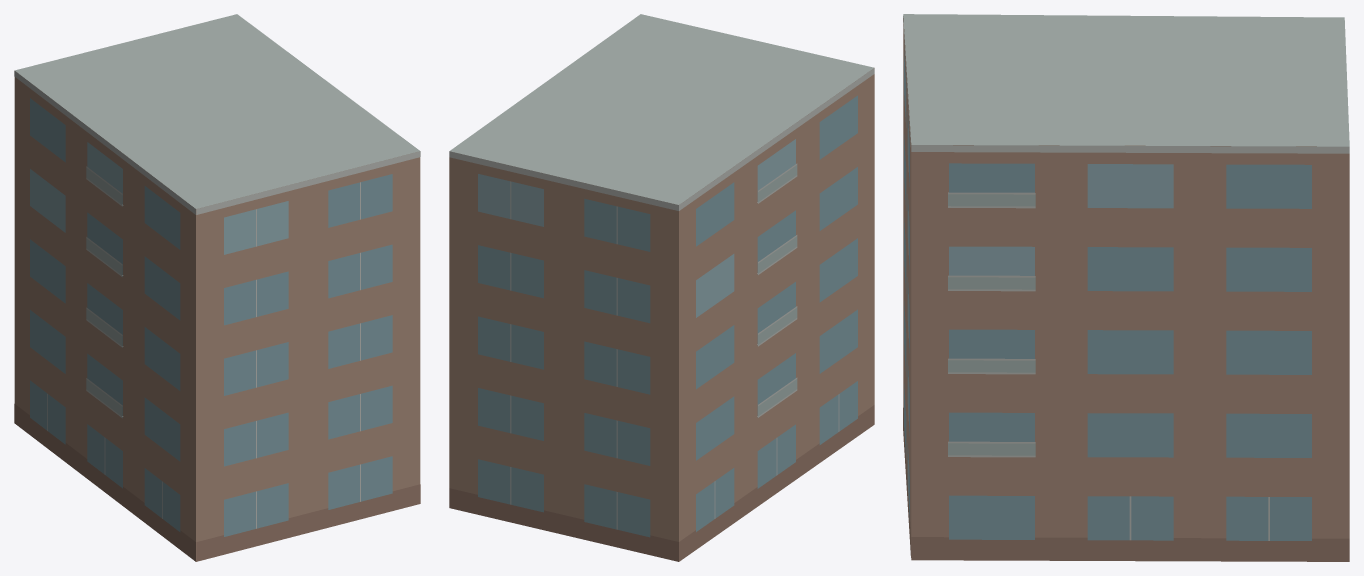
File: survey-upis-32949944.glb
The picture shows the model from 3 angles, left to right: view 1: azimuth 30°, elevation 25°; view 2: azimuth 150°, elevation 25°; view 3: azimuth 270°, elevation 25°; orthographic projection. The views are drawn at different scales.
Parts seen in each view (by area): view 1: survey-upis-32949944.tmp; view 2: survey-upis-32949944.tmp; view 3: survey-upis-32949944.tmp.
Part boxes in pixels (<box>): survey-upis-32949944.tmp: <box>14,14,420,561</box>; survey-upis-32949944.tmp: <box>449,14,874,561</box>; survey-upis-32949944.tmp: <box>903,14,1349,561</box>.
Size of the model in its own units: 9.77 by 14.25 by 13.9.
